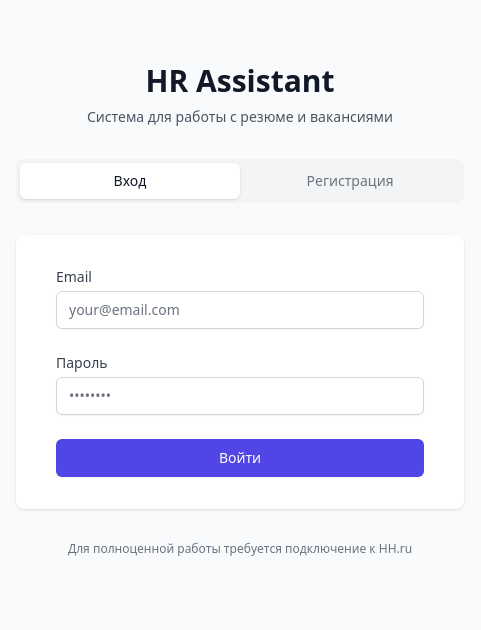
Test case: AuthPage › should switch to signup form when clicking "Регистрация"
Click the button "Регистрация": x=350, y=181 [240, 163, 460, 199]
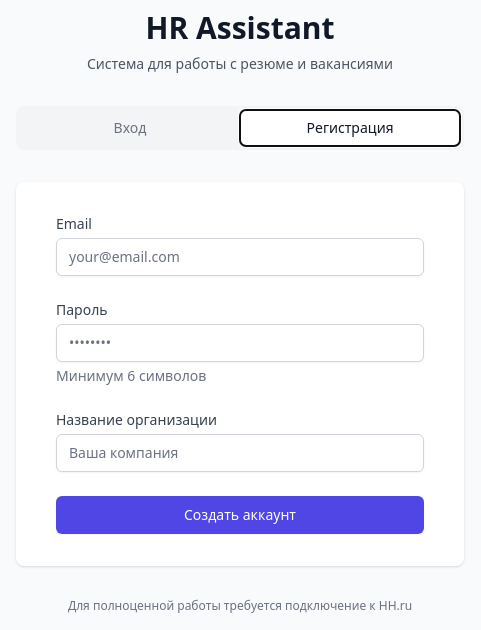
Expected: the field labelled "Email" is shown, [56, 238, 424, 276]
Expected: the password field labelled "Пароль" is shown, [56, 324, 424, 362]
Expected: the field labelled "Название организации" is shown, [56, 434, 424, 472]
